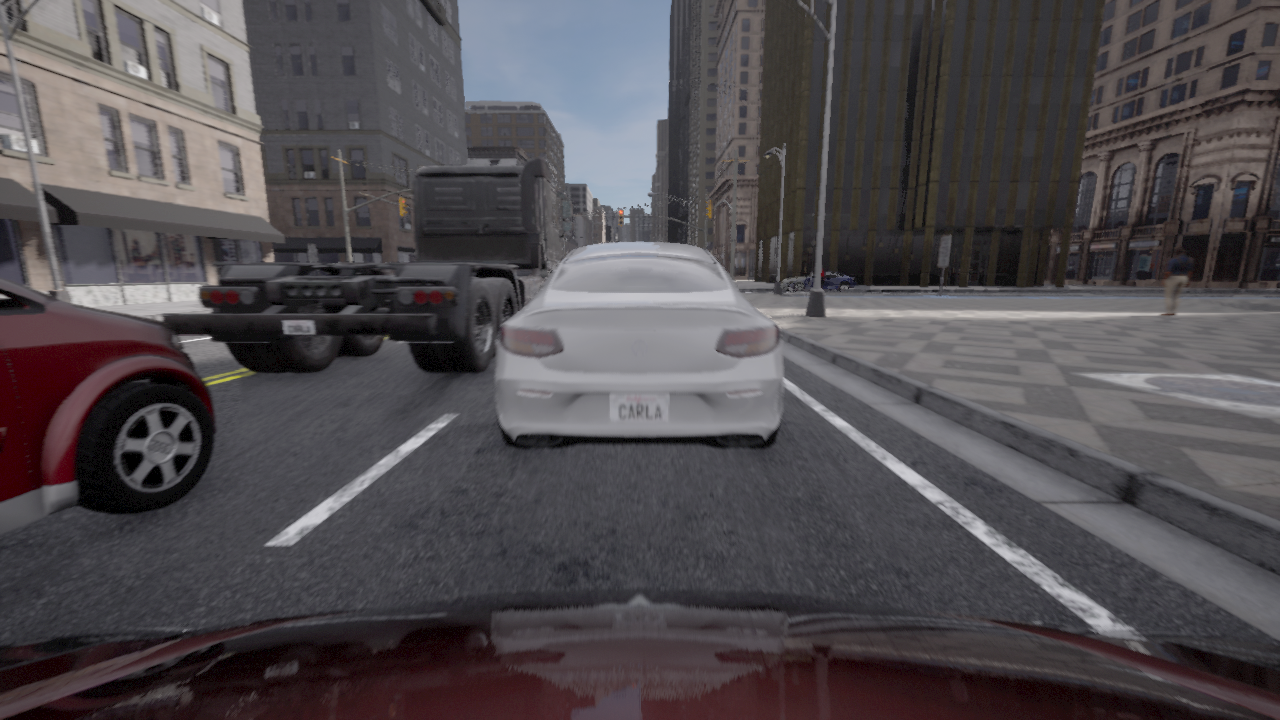cyclist: (0, 588, 1279, 719), (162, 157, 572, 373), (496, 242, 783, 448), (782, 270, 857, 292)
pedestrian: (1159, 247, 1193, 315), (820, 263, 825, 289)
